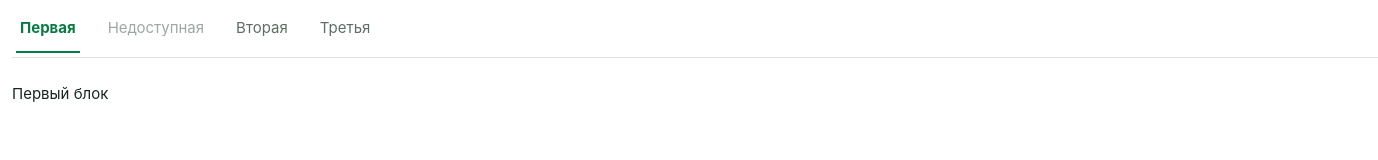
Tabs accessibility › activates by click with correctly labelled panels
The image size is (1378, 160).
Click the tab "Вторая" at (262, 29), box [232,4,292,53]
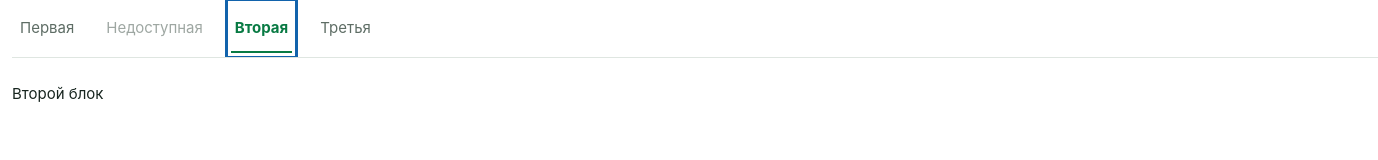
Result: the panel named "Вторая" is shown at [12,84,104,103]
